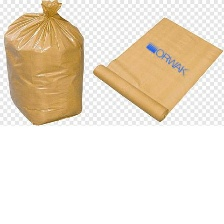plastic_bag: (91, 13, 224, 126), (0, 0, 90, 128)
